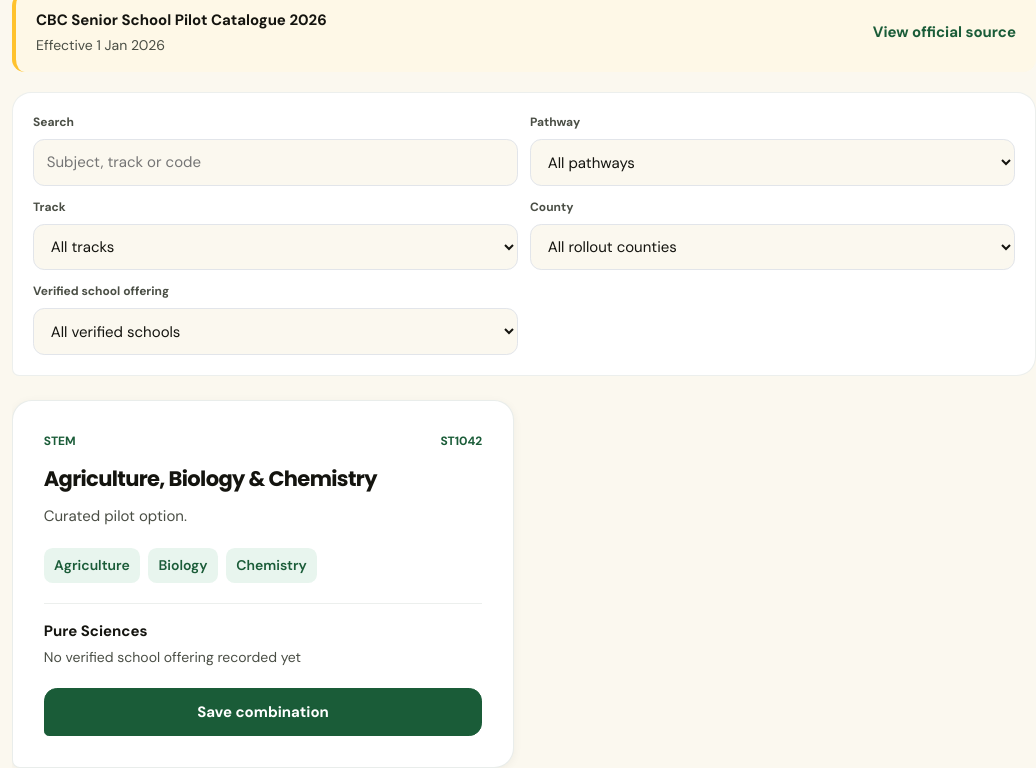
Test: CombinationExplorerPage › saves a combination and updates the comparison count
(page scrolled)
Click the button "Save combination": [263, 712] box [44,688,482,736]
(page scrolled)
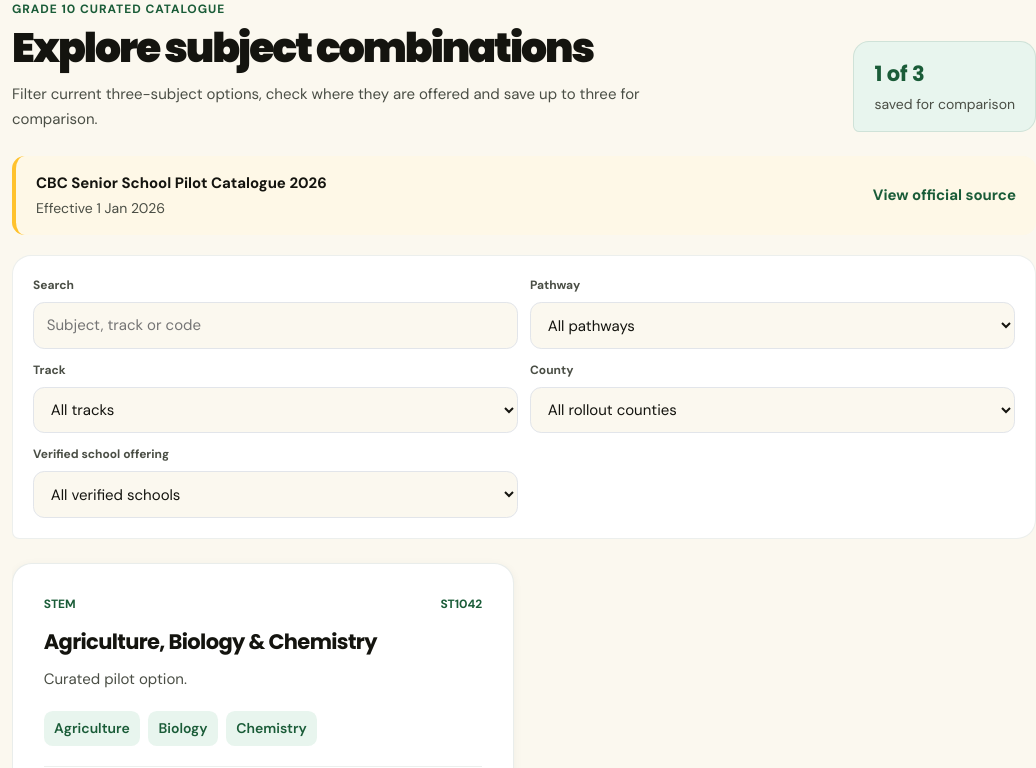
Now the text "1 of 3" is shown, box [874,59,925,88]
